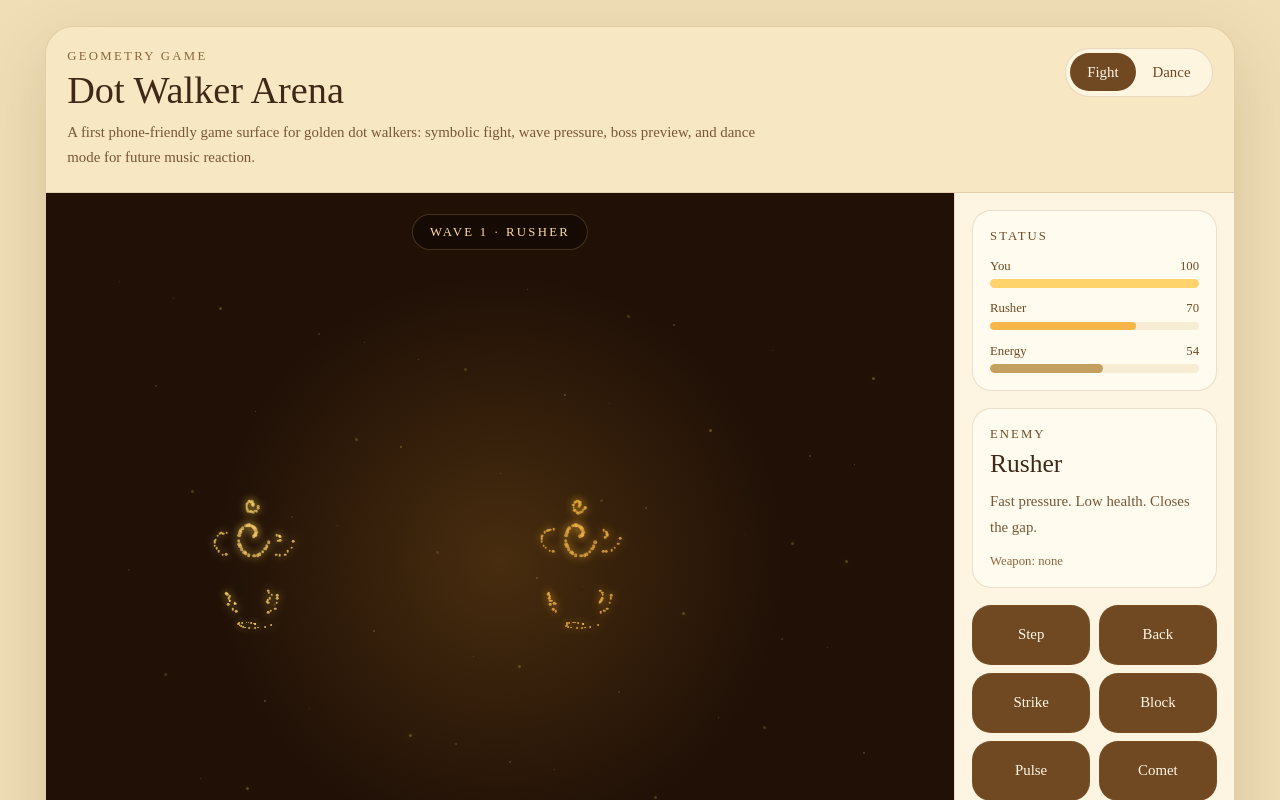
Test: DotWalkerArena › switches to dance mode and disables fight actions
Click the button "dance".
click(1172, 72)  # box [1136, 53, 1208, 91]
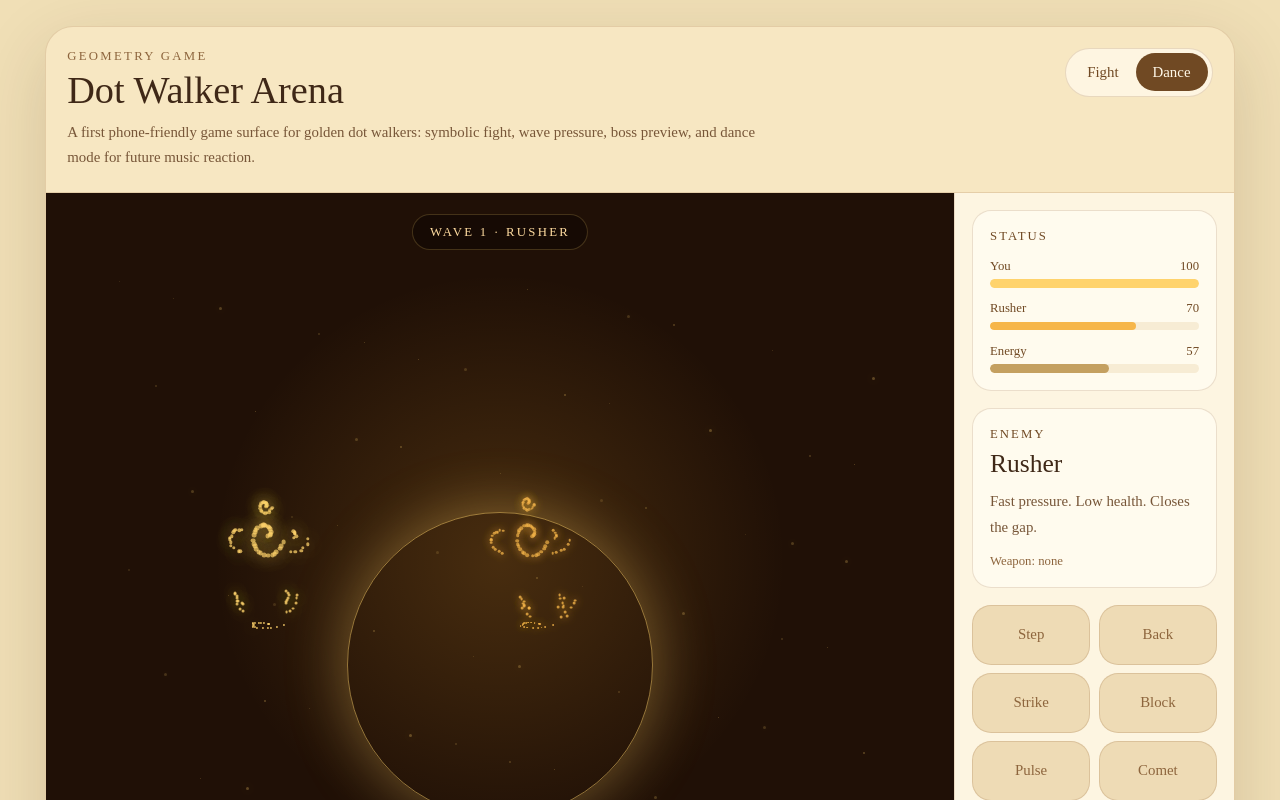
Check: the button "Strike" is disabled, box [972, 673, 1090, 733]
Check: the button "Comet" is disabled, box [1099, 741, 1217, 799]
